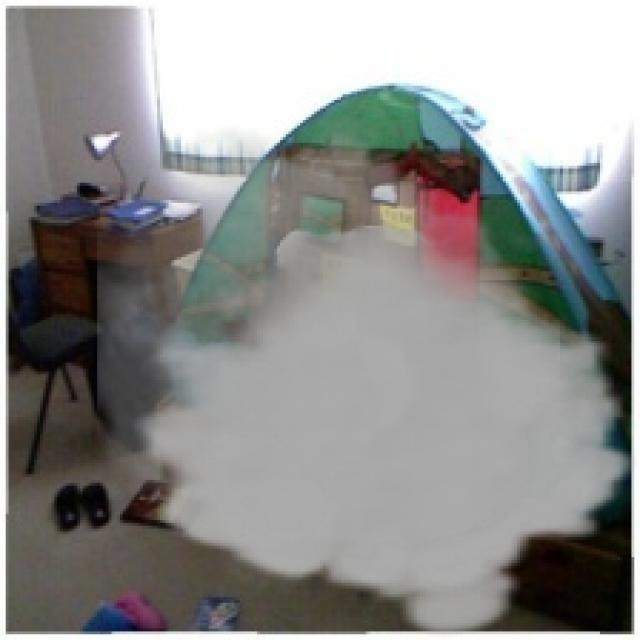Smoke: (97, 111, 639, 638)
